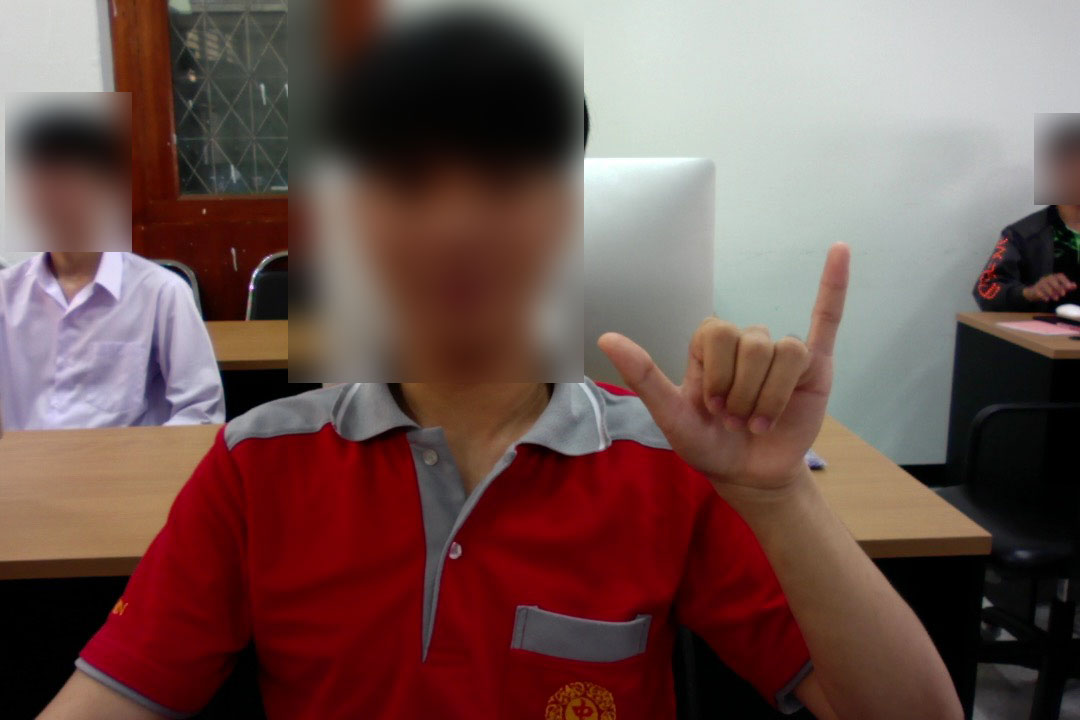yor: (586, 235, 863, 509)
